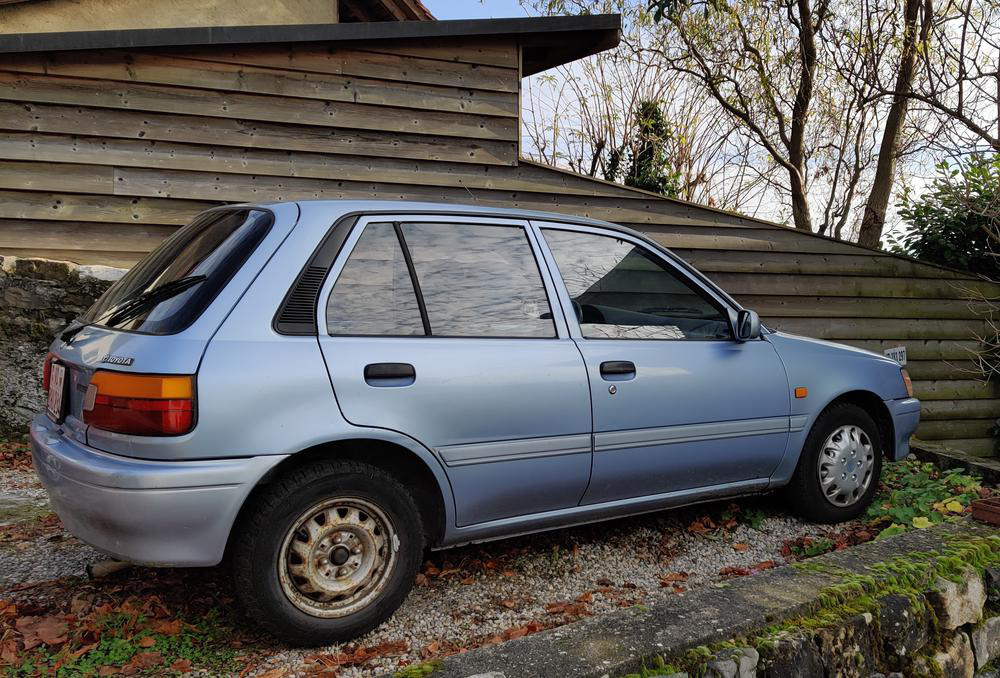mobil: (22, 187, 925, 655)
